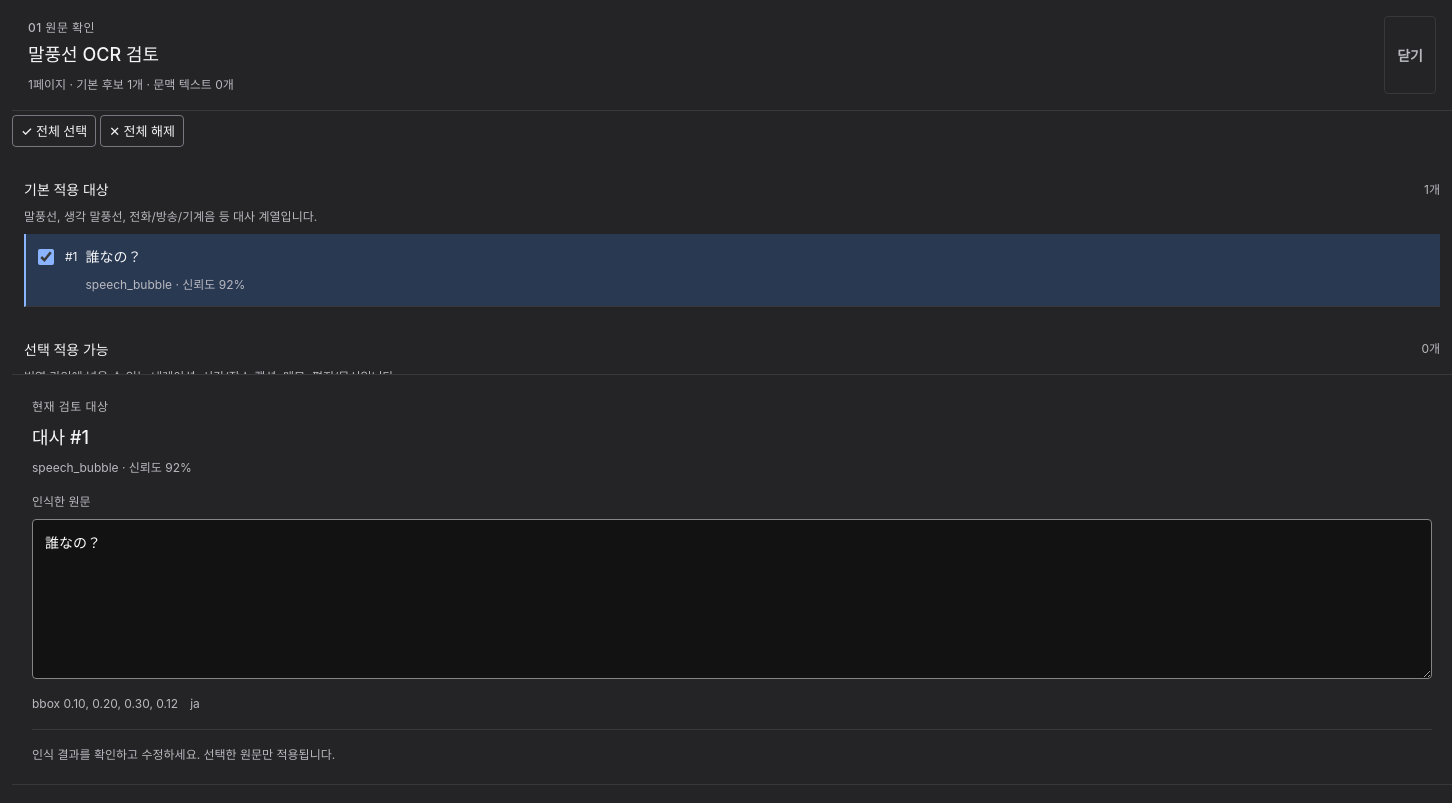
Test: SpeechBubbleReviewDialog stages › selects and deselects all items using bulk toggle buttons
Expected: the checkbox named "speech_bubble 1 적용" is checked, [38, 249, 54, 265]
Click the button "✕ 전체 해제" at (142, 131), box [100, 115, 184, 147]
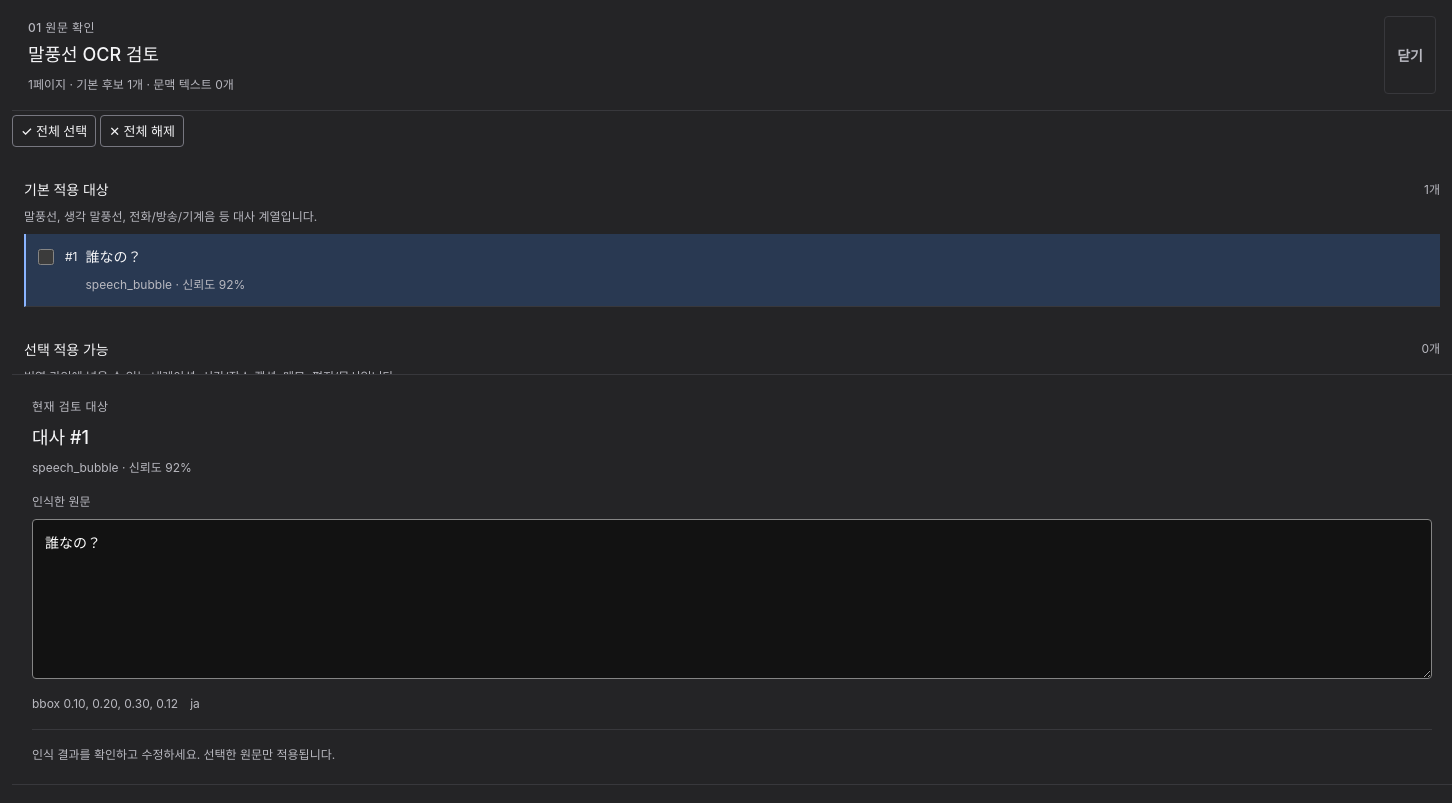
Now the checkbox named "speech_bubble 1 적용" is not checked, box [38, 249, 54, 265]
Click the button "✓ 전체 선택" at (54, 131), box [12, 115, 96, 147]
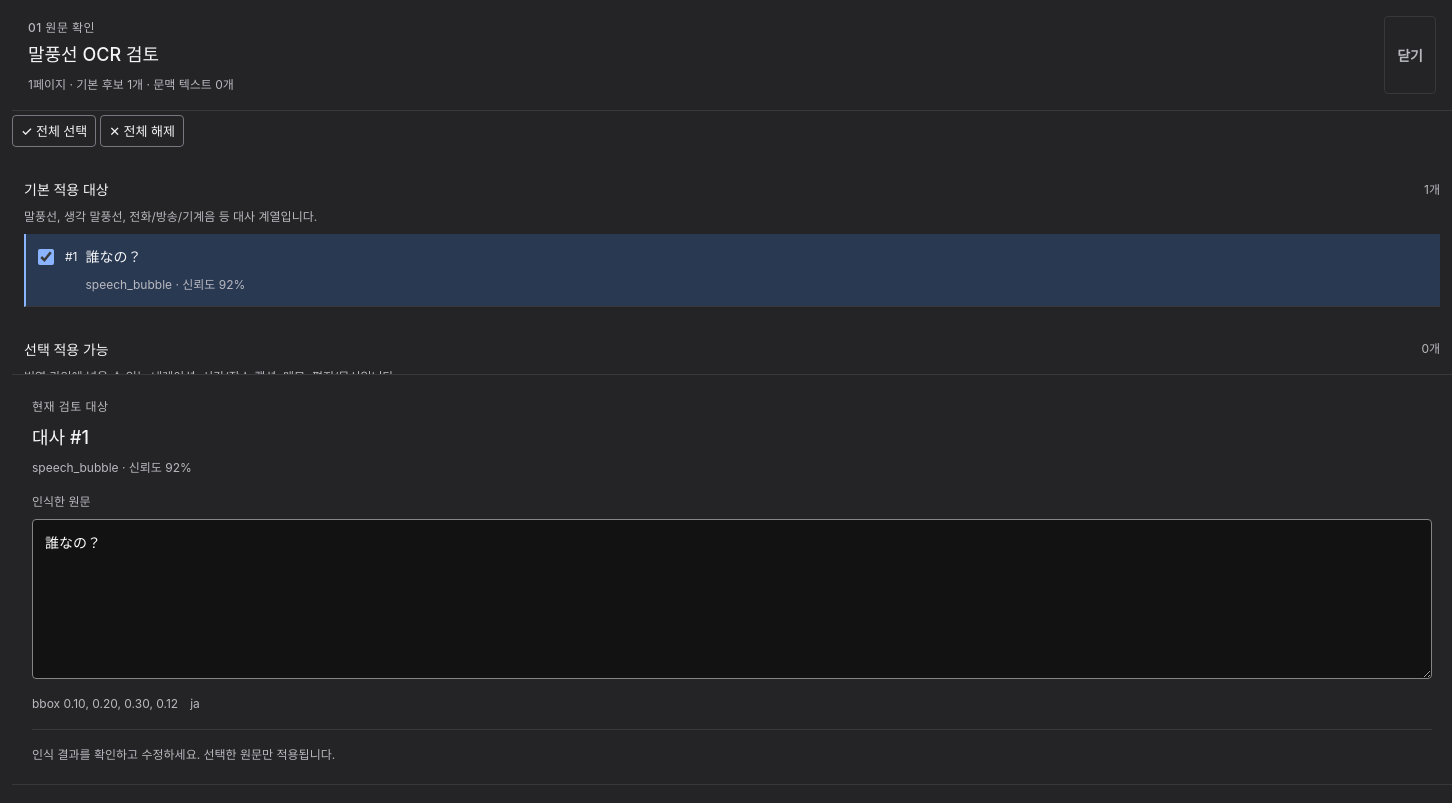
Now the checkbox named "speech_bubble 1 적용" is checked, box [38, 249, 54, 265]
